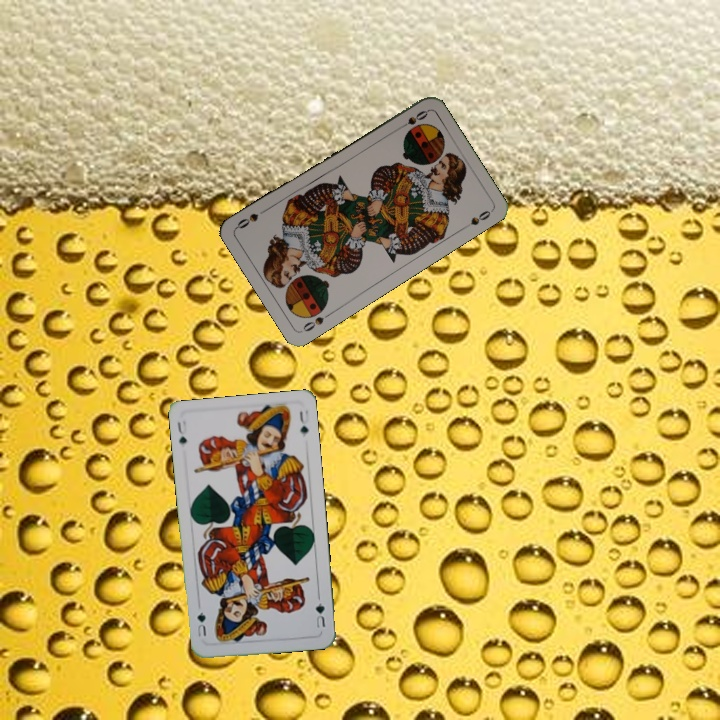GU: (311, 592, 328, 630), (173, 417, 190, 447)
SO: (393, 106, 431, 133), (299, 308, 335, 334)
